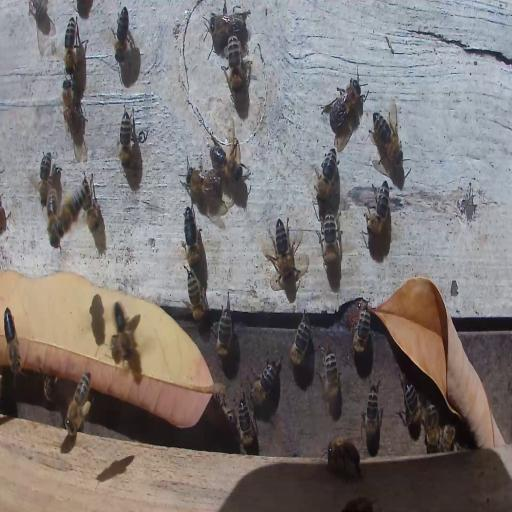bee: (48, 179, 90, 254), (326, 76, 363, 134), (64, 364, 92, 439), (249, 349, 283, 406), (371, 108, 403, 164), (272, 215, 296, 283), (364, 181, 392, 236), (326, 435, 362, 477), (112, 302, 140, 356), (319, 346, 342, 410), (210, 147, 244, 188), (207, 8, 249, 41), (314, 150, 338, 202), (350, 300, 372, 356), (4, 307, 22, 375), (237, 394, 257, 454), (185, 162, 220, 196), (289, 312, 311, 366), (363, 382, 383, 441), (320, 209, 340, 268), (183, 204, 200, 272), (399, 380, 421, 432), (113, 6, 131, 66), (226, 34, 244, 94), (186, 272, 208, 320), (62, 76, 80, 134), (118, 105, 133, 173), (216, 299, 233, 358), (38, 150, 52, 206), (65, 16, 77, 77), (432, 424, 456, 452), (425, 402, 439, 449), (43, 372, 59, 406)
